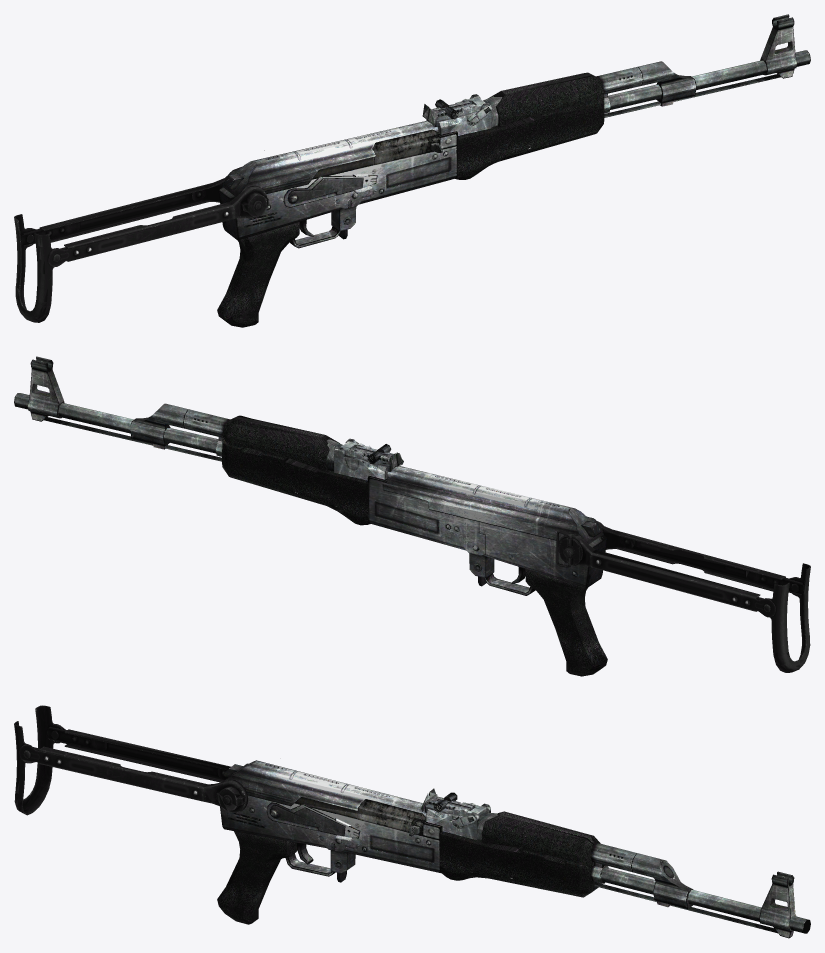
3 renders of one model, top to bottom at view 1: azimuth 30°, elevation 25°; view 2: azimuth 150°, elevation 25°; view 3: azimuth 330°, elevation 25°, orthographic.
Parts seen in each view (by area): view 1: Gun_Root; view 2: Gun_Root; view 3: Gun_Root.
Part boxes in pixels (box(x1,y1,x2,y2)): Gun_Root: box(14, 14, 810, 327); Gun_Root: box(14, 356, 810, 676); Gun_Root: box(14, 705, 810, 938).
Size of the model in its own units: 0.905 by 0.1973 by 0.0668.
5 materials, 5 textured.
